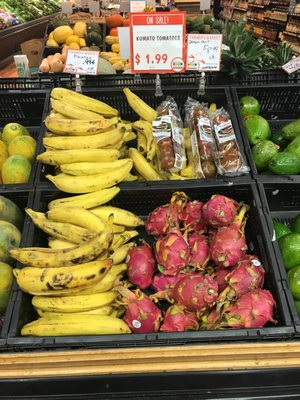pasta: (12, 255, 117, 295), (43, 158, 137, 195), (42, 121, 133, 151), (30, 290, 119, 315), (46, 184, 121, 211), (127, 146, 163, 182)
